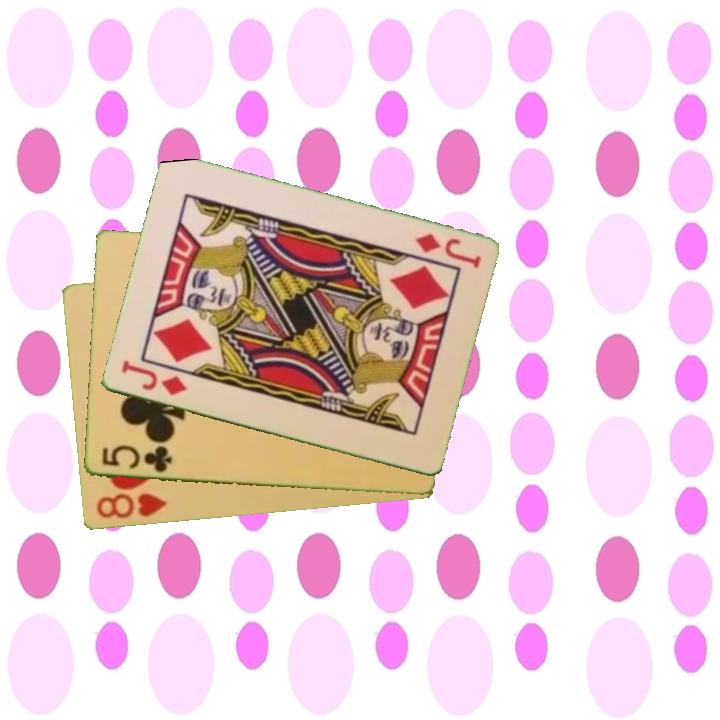5c: (98, 442, 174, 476)
8h: (92, 490, 170, 522)
Jd: (117, 356, 190, 399), (411, 230, 484, 272)
